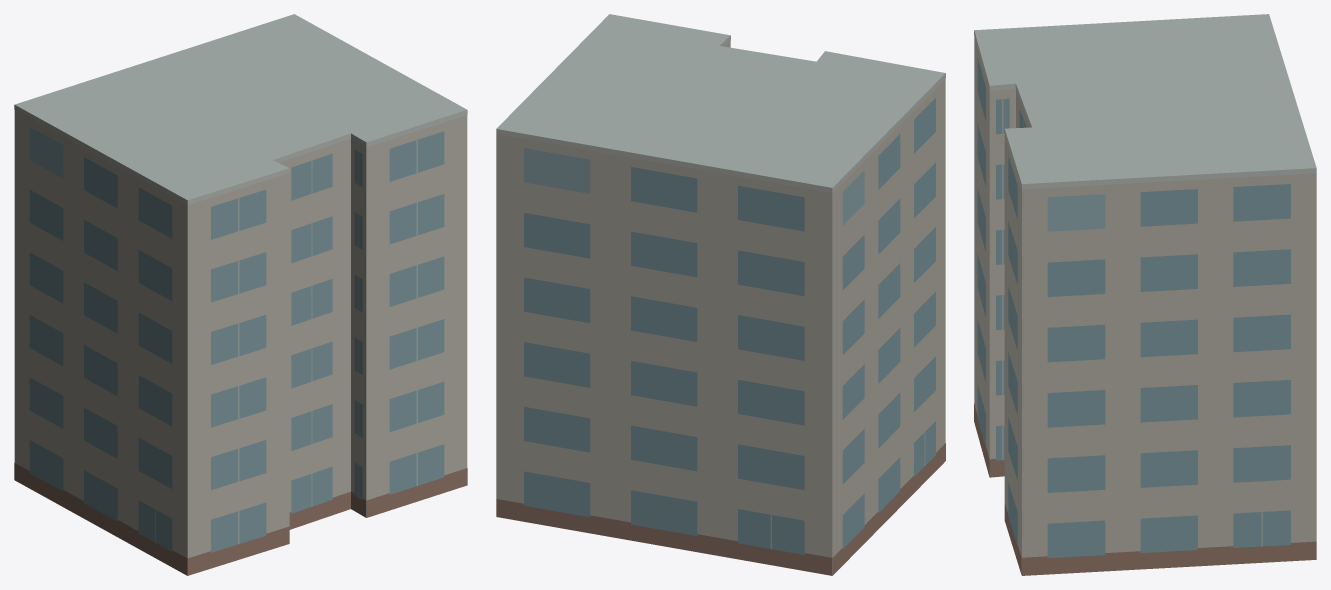
Rendered from survey-upis-32858025.glb.
The picture shows the model from 3 angles, left to right: view 1: azimuth 30°, elevation 25°; view 2: azimuth 150°, elevation 25°; view 3: azimuth 270°, elevation 25°; orthographic projection. The views are drawn at different scales.
Parts seen in each view (by area): view 1: survey-upis-32858025.tmp; view 2: survey-upis-32858025.tmp; view 3: survey-upis-32858025.tmp.
Boxes of the visible parts, x1,y1,x2,y2 form: survey-upis-32858025.tmp: (14,14,467,575); survey-upis-32858025.tmp: (496,14,945,575); survey-upis-32858025.tmp: (974,14,1316,575).
Bounding box in the file's own units: 17.06 × 18.3 × 14.51.
